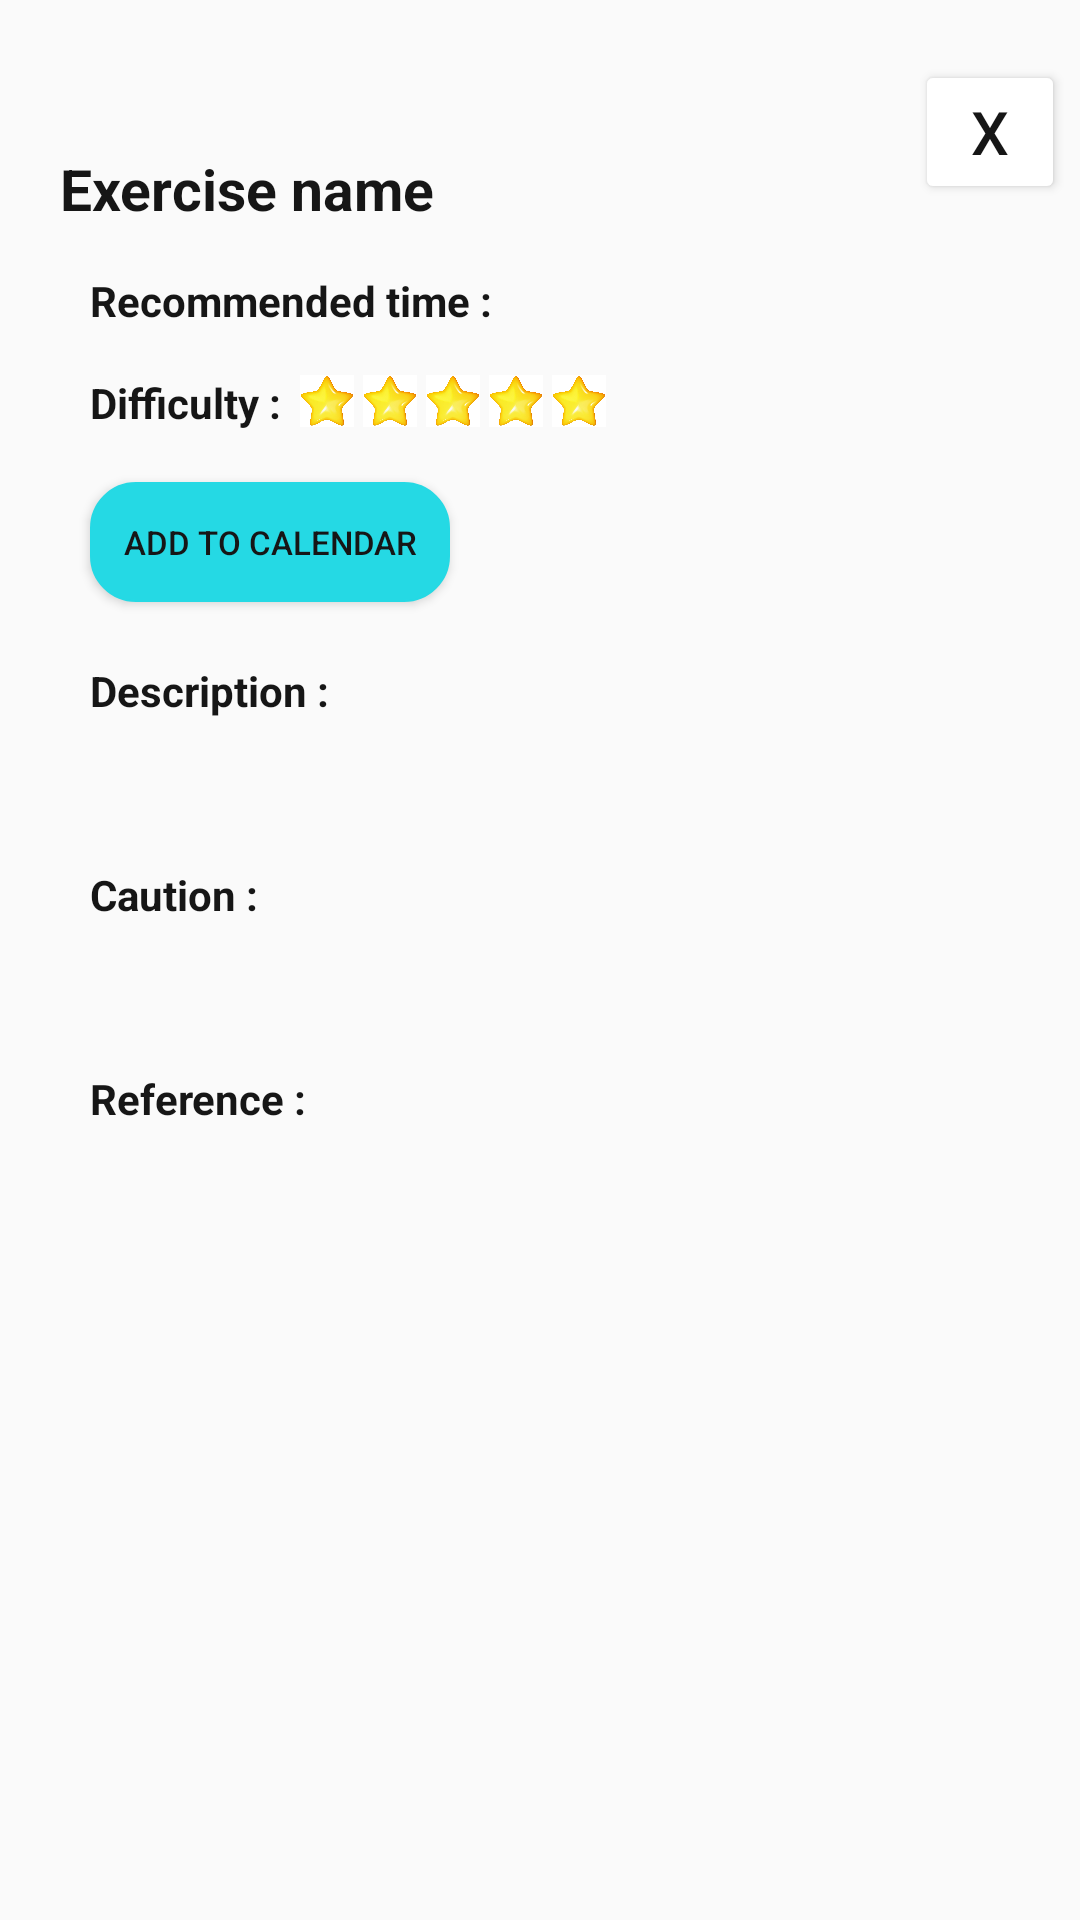

Screen size 1080w x 1920h. Icon name, then its box in pixels as (x1, y1, x2, y2):
star: (301, 376, 353, 426), (364, 376, 416, 426), (427, 376, 479, 426), (490, 376, 542, 426), (553, 376, 605, 426)
